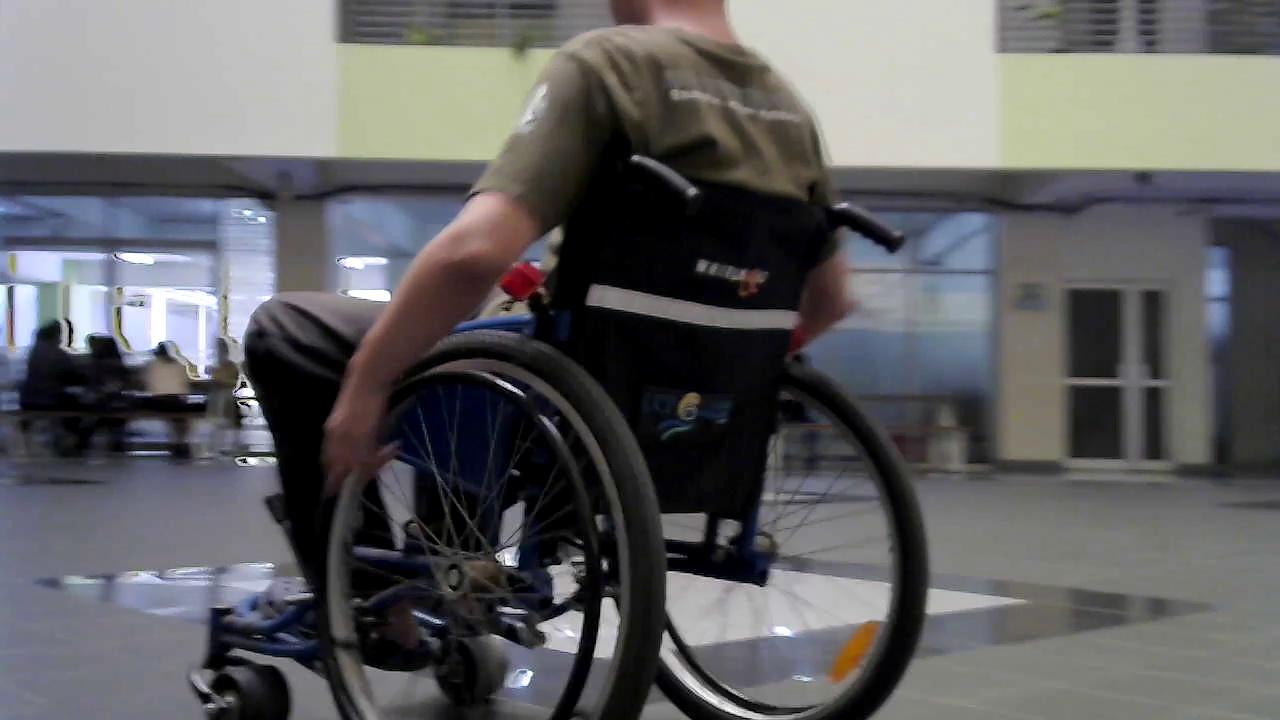person: (316, 4, 863, 659)
wheelchair: (201, 145, 944, 720)
